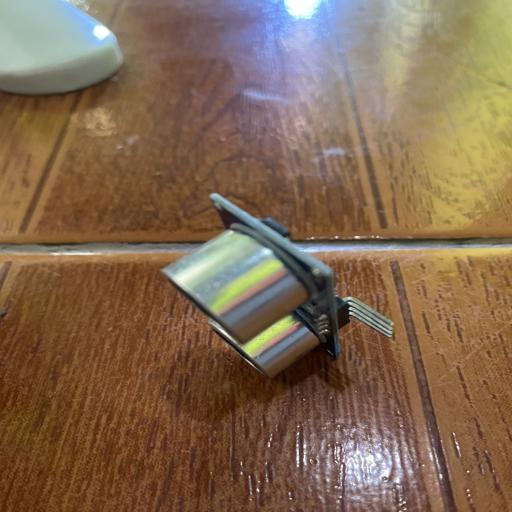Ultrasonic Sensor: (157, 191, 395, 379)
